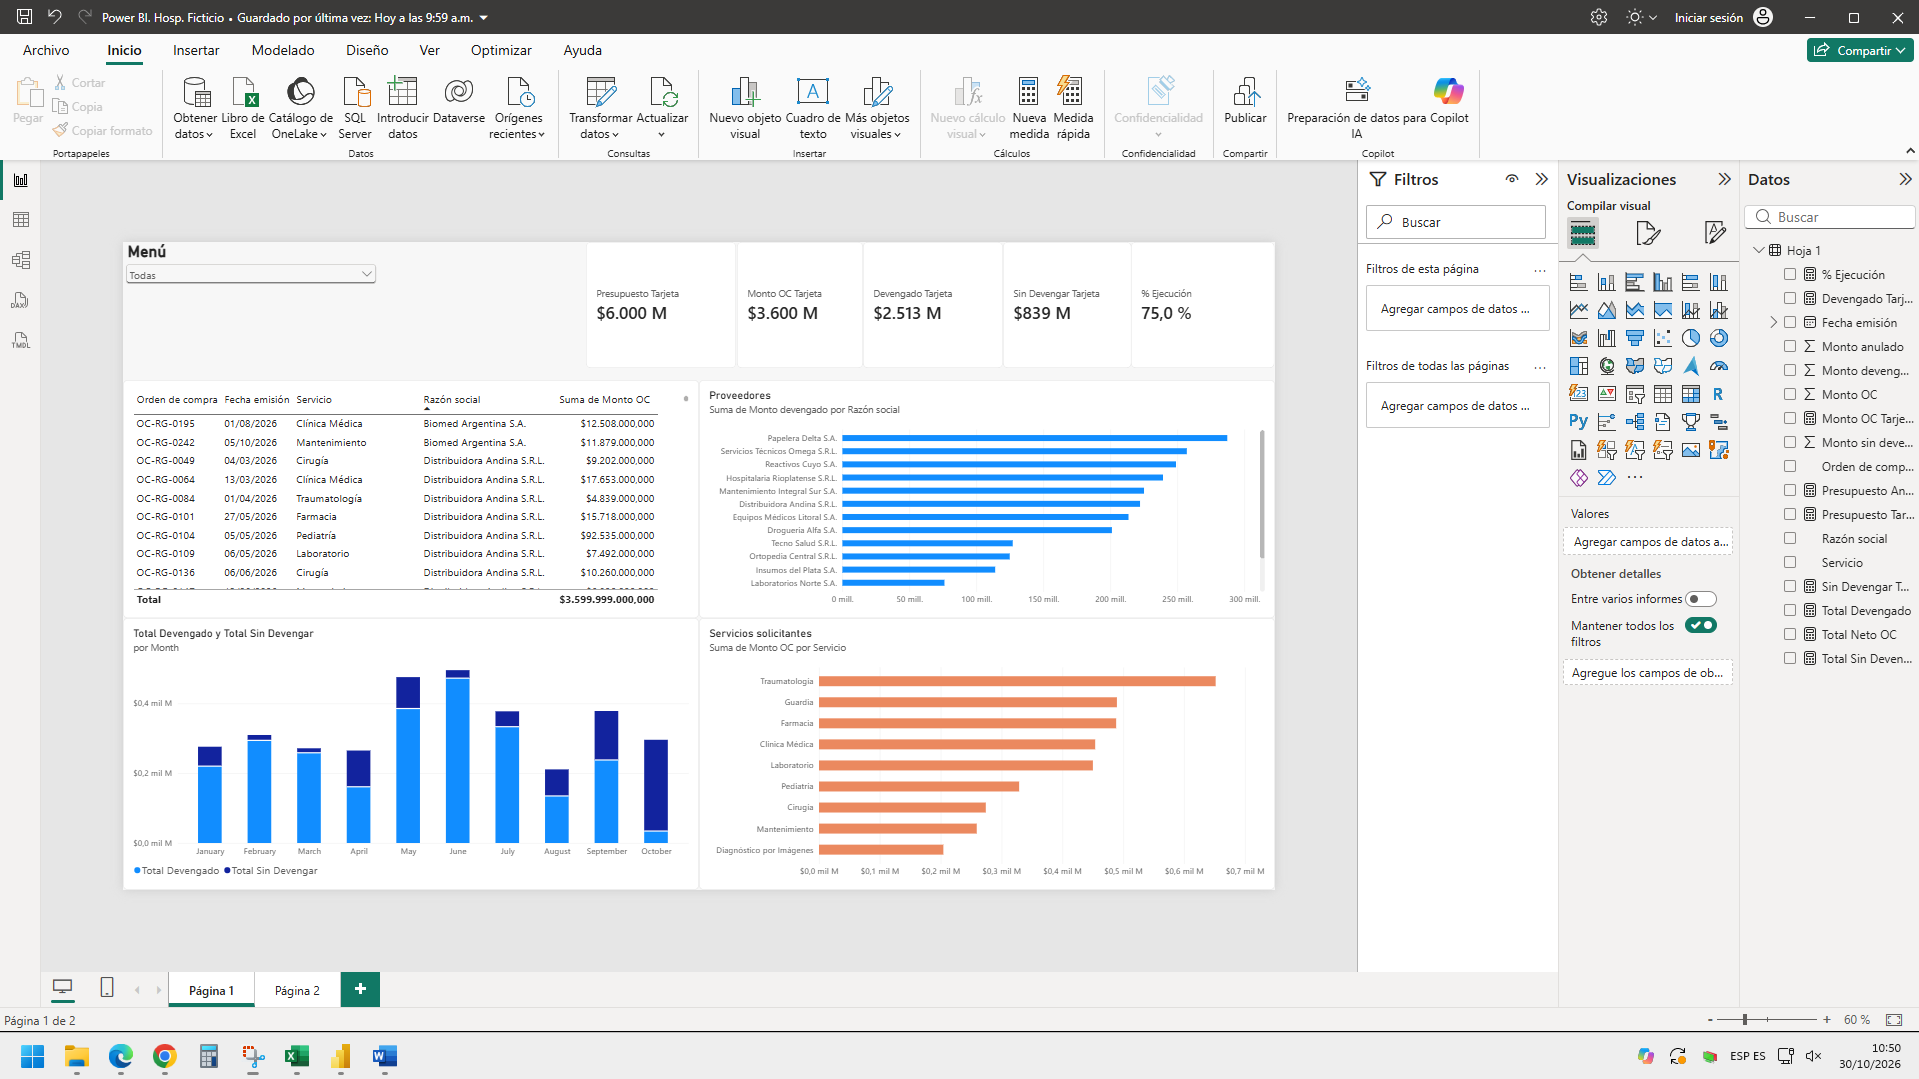

The dashboard page shown, as its layout file describes it:
{"tool":"powerbi","page":{"name":"Página 1","canvas":[1920,1080],"ordinal":0},"visuals":[{"type":"cardVisual","fields":{"Data":["Hoja 1.Devengado Tarjeta"]},"box":[1232.8,0,233.4,210.1],"z":0},{"type":"cardVisual","fields":{"Data":["Hoja 1.Sin Devengar Tarjeta"]},"box":[1466.3,0,214.5,210.1],"z":1000},{"type":"barChart","title":"Servicios solicitantes","fields":{"Category":["Hoja 1.Servicio"],"Y":["Sum(Hoja 1.Monto OC)"]},"box":[960,626.7,960,453.3],"z":2000},{"type":"tableEx","fields":{"Values":["Hoja 1.Orden de compra","Hoja 1.Fecha emisión","Hoja 1.Servicio","Hoja 1.Razón social","Sum(Hoja 1.Monto OC)"]},"box":[0,230,960,396.7],"z":3000},{"type":"slicer","fields":{"Values":["Hoja 1.Servicio"]},"box":[0,0,426.7,210],"z":4000},{"type":"cardVisual","fields":{"Data":["Hoja 1.% Ejecución"]},"box":[1680.7,0,239.3,210.1],"z":5000},{"type":"cardVisual","fields":{"Data":["Hoja 1.Monto OC Tarjeta"]},"box":[1022.7,0,210.1,210.1],"z":6000},{"type":"cardVisual","fields":{"Data":["Hoja 1.Presupuesto Tarjeta"]},"box":[771.8,0,250.9,210.1],"z":7000},{"type":"barChart","title":"Proveedores","fields":{"Category":["Hoja 1.Razón social"],"Y":["Sum(Hoja 1.Monto devengado)"]},"box":[960,230,960,396.7],"z":8000},{"type":"columnChart","fields":{"Category":["Hoja 1.Fecha emisión.Variation.Date Hierarchy.Month"],"Y":["Hoja 1.Total Devengado","Hoja 1.Total Sin Devengar"]},"box":[0,626.7,960,453.3],"z":8001}]}

Visuals, with their boxes on the page's 1920x1080 design canvas (x1, y1, x2, y2). These are canvas units, not pixel positions in the 1919x1079 screenshot, which may show the page scaled, cropped or inside an application window:
cardVisual - Hoja 1.Devengado Tarjeta: (1233, 0, 1466, 210)
cardVisual - Hoja 1.Sin Devengar Tarjeta: (1466, 0, 1681, 210)
"Servicios solicitantes" barChart: (960, 627, 1920, 1080)
tableEx - Hoja 1.Orden de compra x Hoja 1.Fecha emisión: (0, 230, 960, 627)
slicer - Hoja 1.Servicio: (0, 0, 427, 210)
cardVisual - Hoja 1.% Ejecución: (1681, 0, 1920, 210)
cardVisual - Hoja 1.Monto OC Tarjeta: (1023, 0, 1233, 210)
cardVisual - Hoja 1.Presupuesto Tarjeta: (772, 0, 1023, 210)
"Proveedores" barChart: (960, 230, 1920, 627)
columnChart - Hoja 1.Fecha emisión.Variation.Date Hierarchy.Month x Hoja 1.Total Devengado: (0, 627, 960, 1080)
